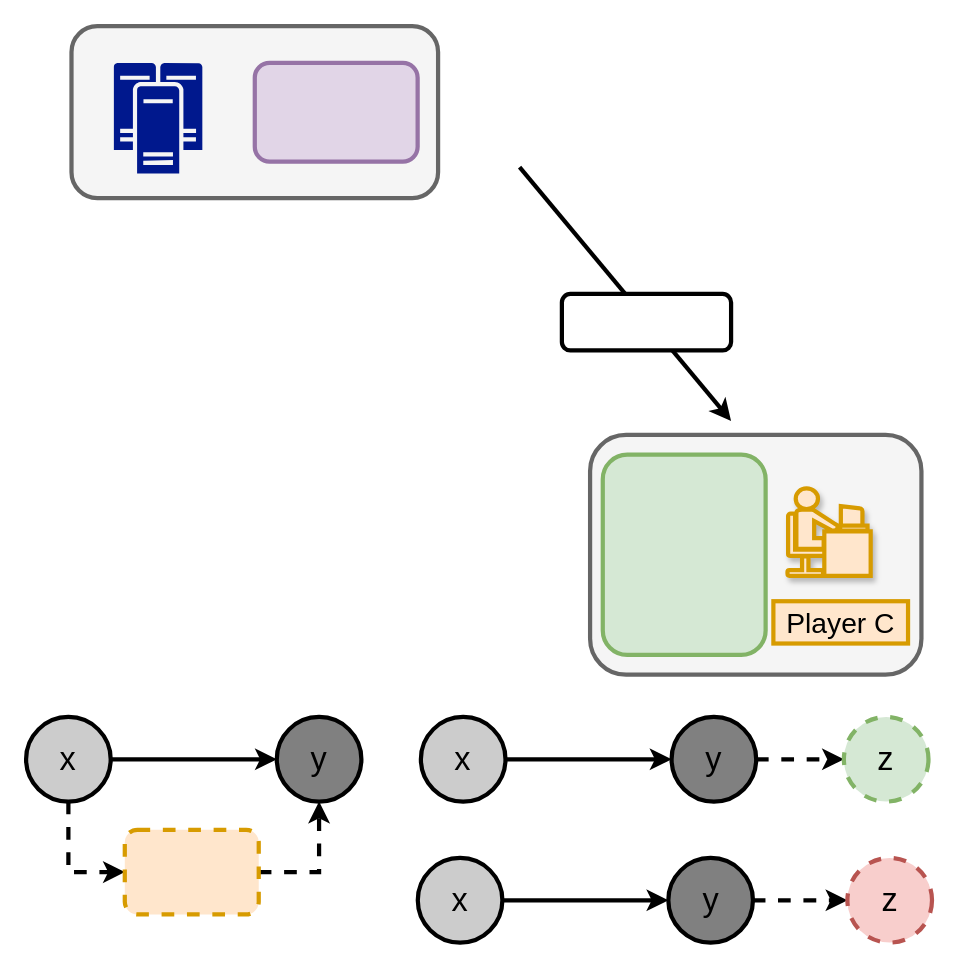
This 959x969 diagram has some shape labels left out. Each missing label, with the centre of its shape:
"A at pos y" belongs at (645,321).
"Authorized Server 权威服务器" belongs at (335,111).
"Simulated Client" belongs at (683,554).
"插值" belongs at (191,871).
